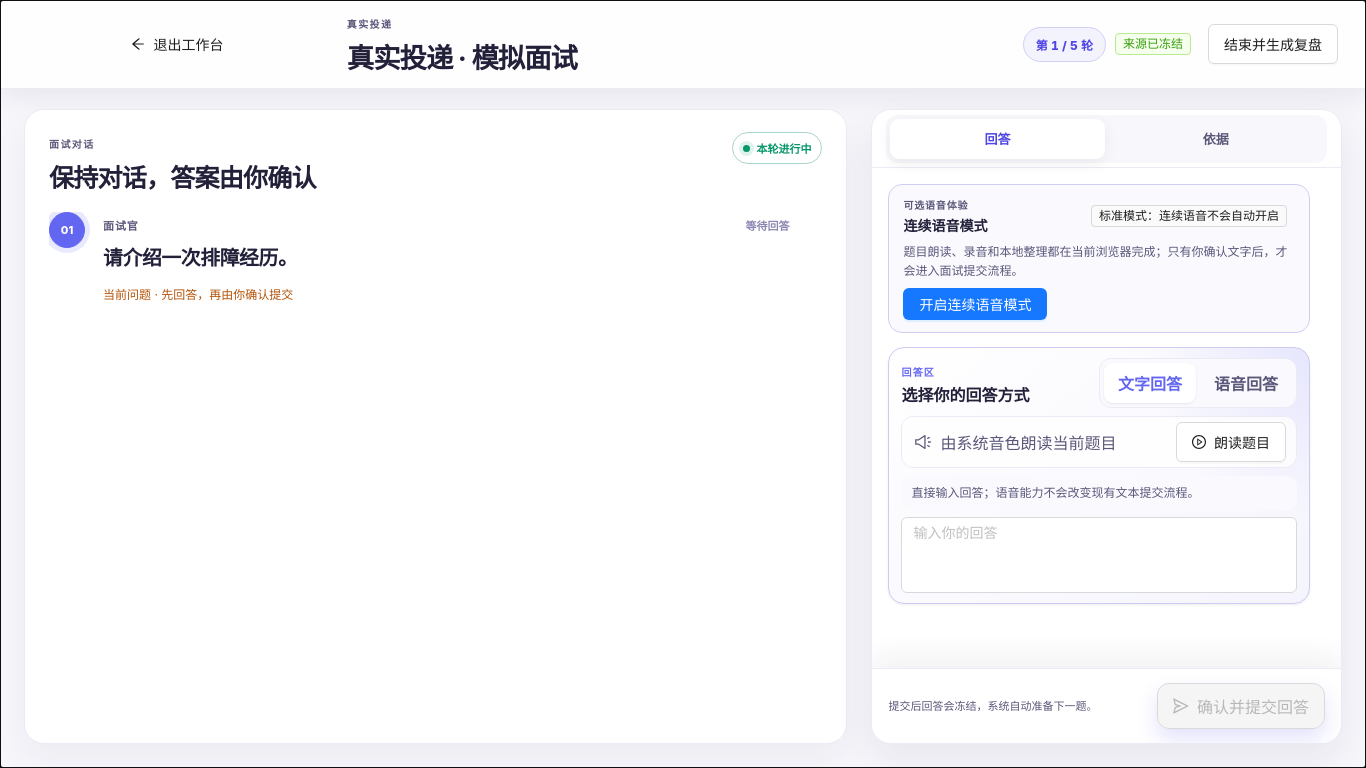
Scenario: InterviewStudio continuous voice integration › surfaces unknown feedback results above the scroller with the original-key recovery
Click the button "结束并生成复盘" at (1273, 44), box [1208,24,1338,64]
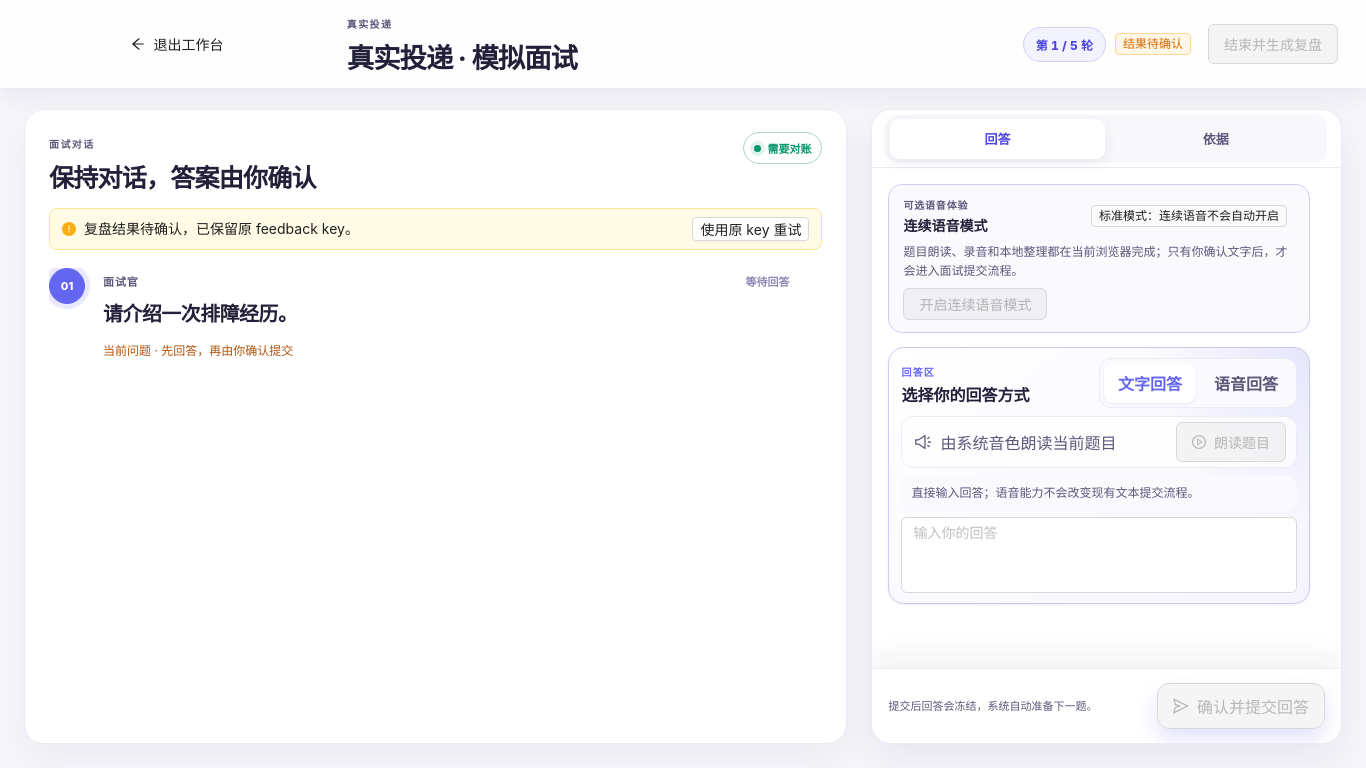
Result: the element showing "复盘结果待确认，已保留原 feedback key。 使用原 key 重试" is shown at [49,208,822,250]
Result: the text "使用原 key 重试" is shown at [700,219,801,239]
